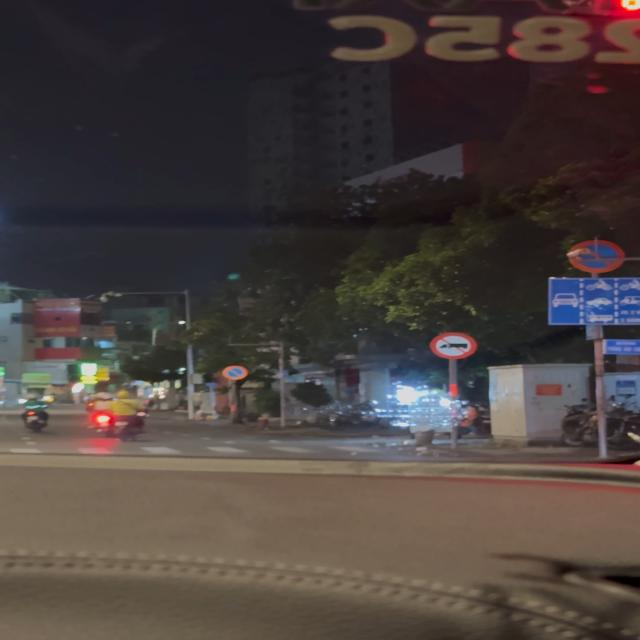Bien bao cam do xe: (221, 363, 252, 383)
Bien bao cam xe so-mi ro-mooc: (427, 328, 482, 362)
